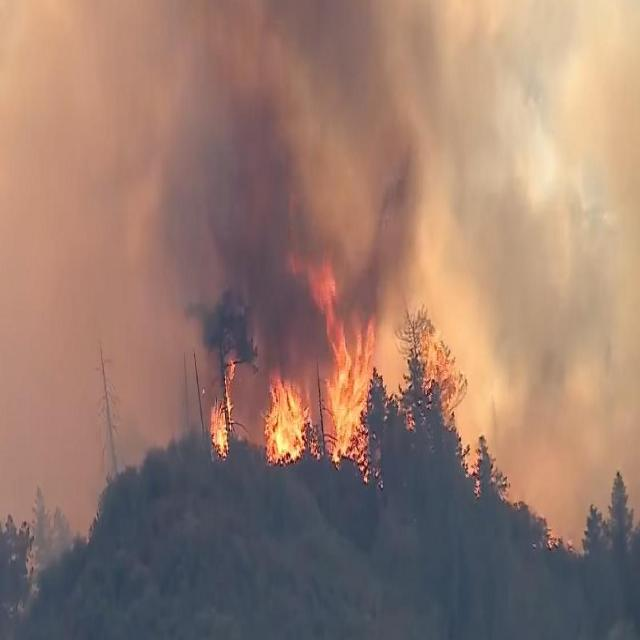fire: (196, 265, 395, 470)
